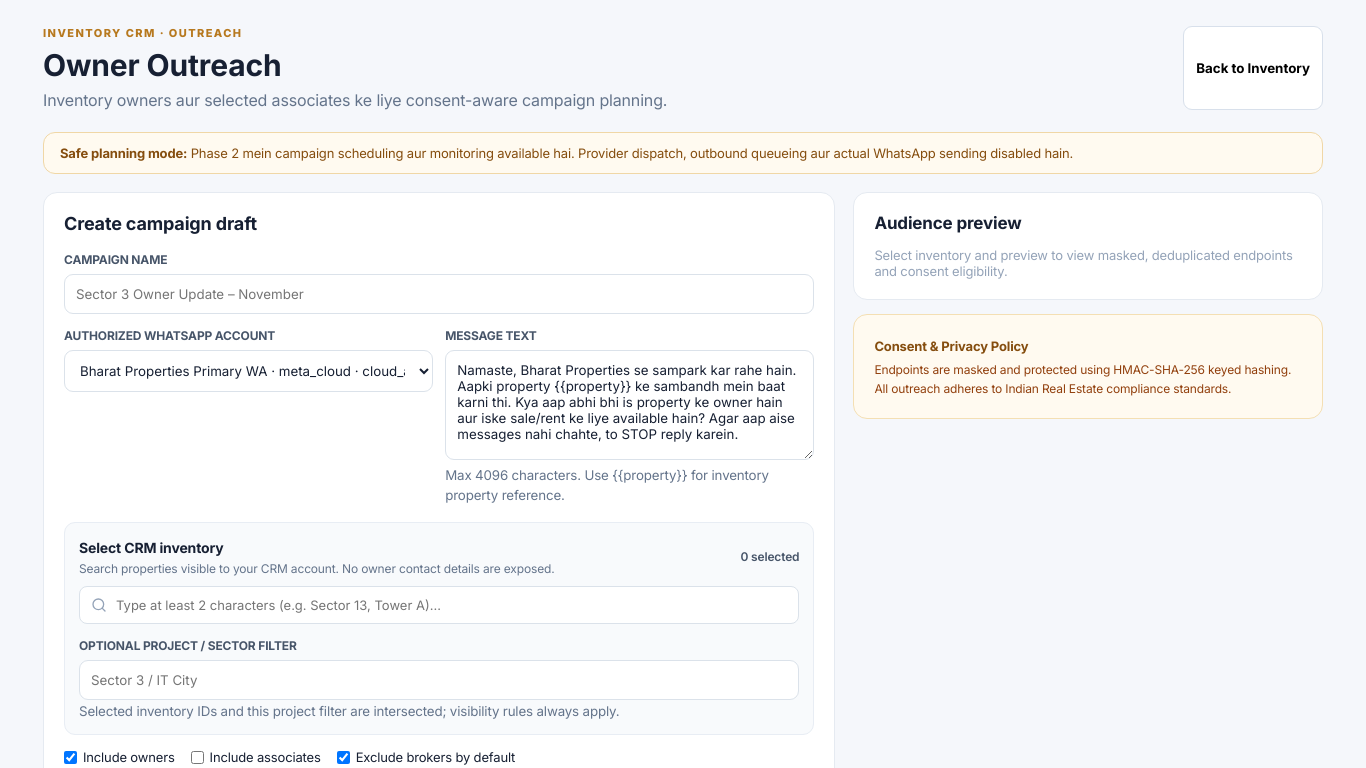
it: OwnerOutreachPage Frontend Component › executes audience preview and renders preview metrics
This screenshot has width=1366, height=768.
# Set project filter so Preview button is enabled
Type "DLF Magnolias" into the field with placeholder "Sector 3 / IT City".
click(439, 680); type("DLF Magnolias")  # box [79, 660, 799, 700]
(page scrolled)
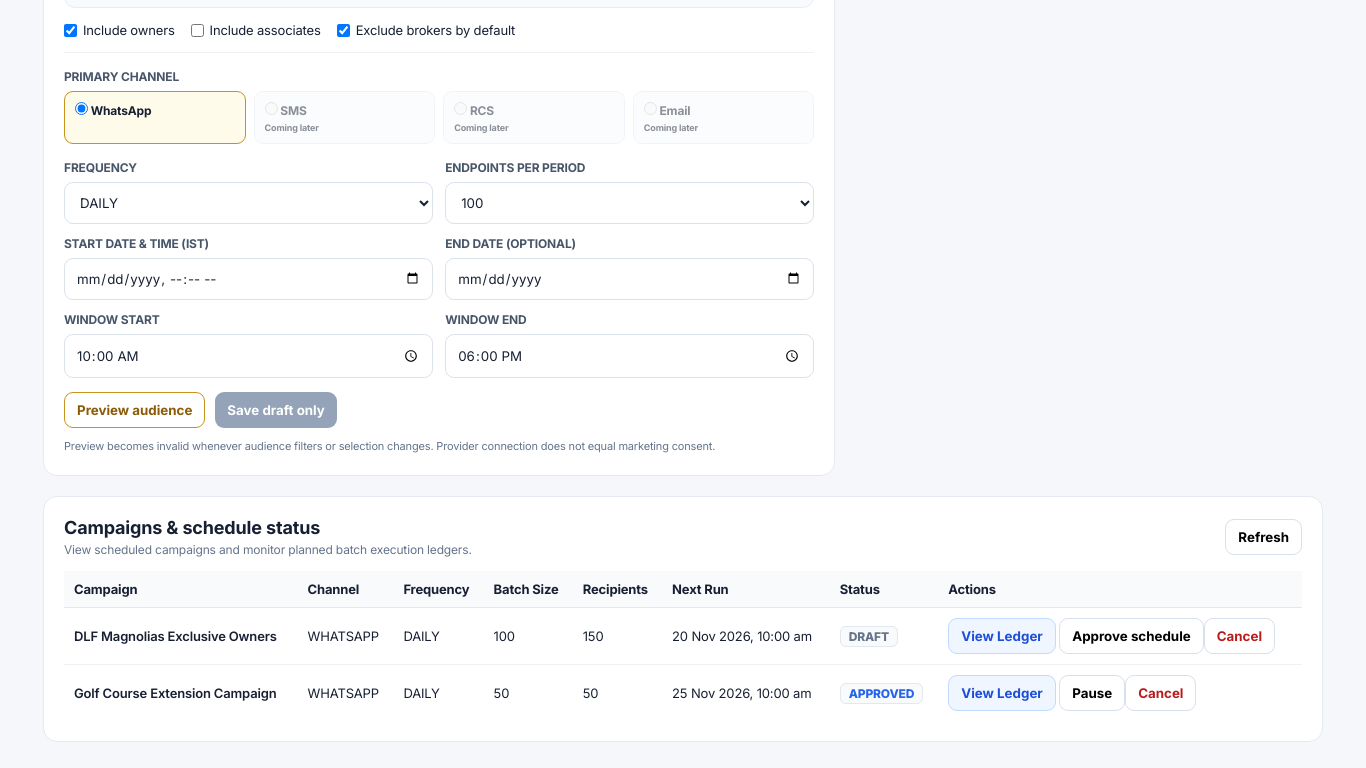
Check: the button "Preview audience" is enabled
Click the button "Preview audience".
click(135, 410)  # box [64, 392, 205, 428]
(page scrolled)
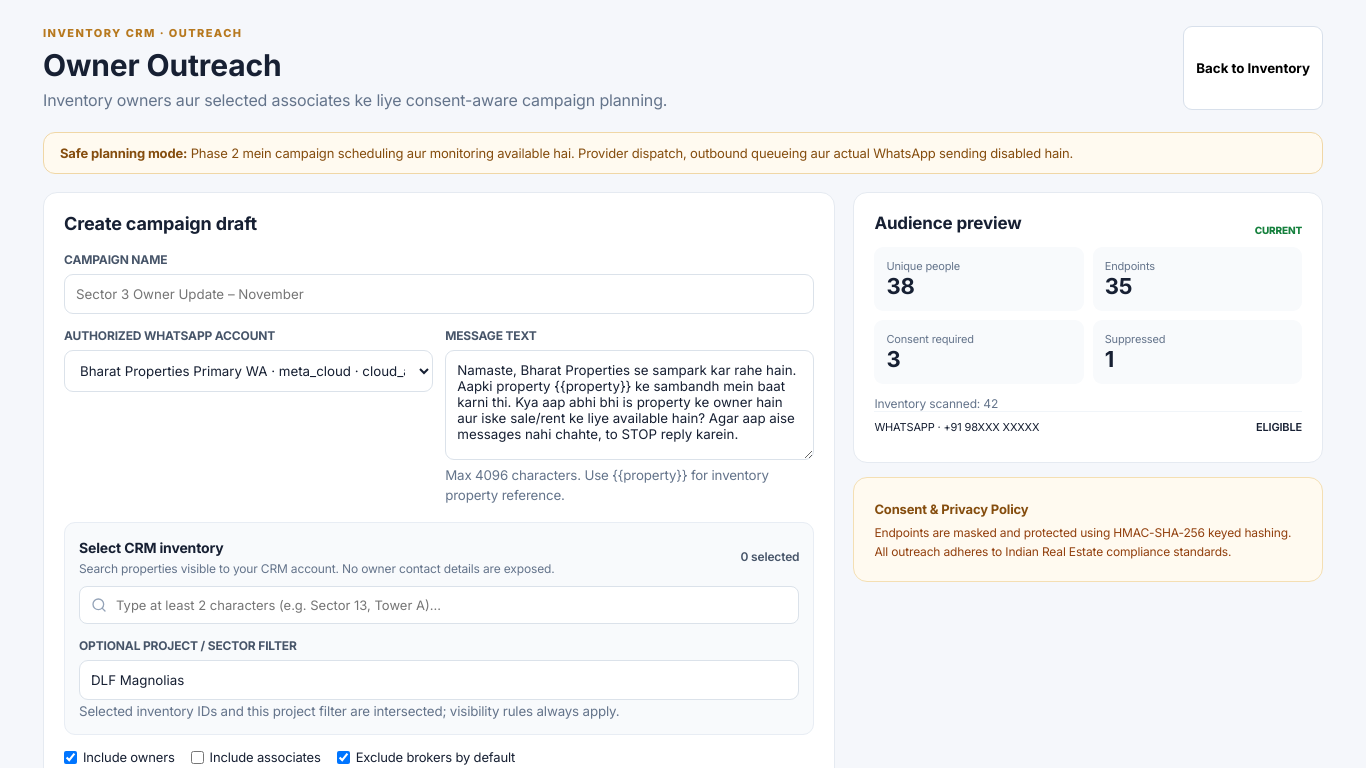
Check: the text "CURRENT" is shown, box [1255, 224, 1302, 236]
Check: the text "Inventory scanned: 42" is shown, box [874, 396, 998, 411]
Check: the text "38" is shown, box [886, 273, 915, 299]
